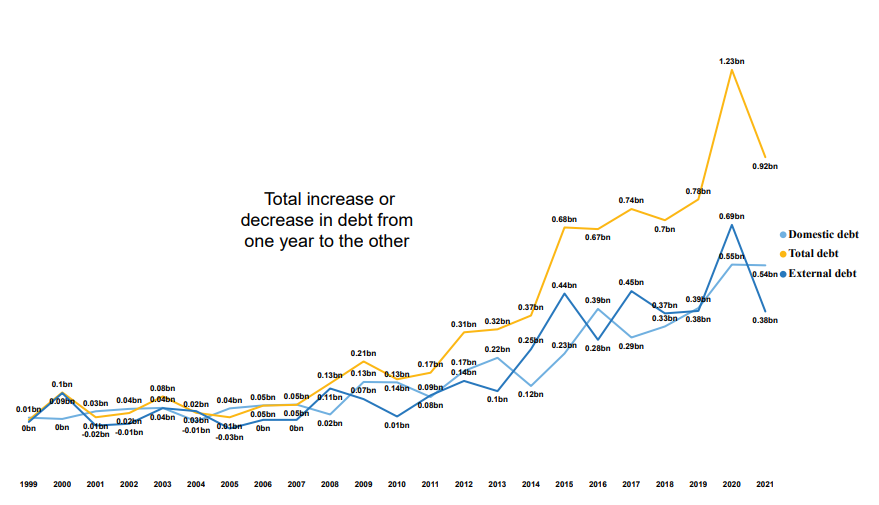

The page's visual inventory and layout, read from the dashboard file:
{"tool":"powerbi","page":{"name":"Page 1","canvas":[1280,720],"ordinal":0},"visuals":[{"type":"lineChart","fields":{"Y":["Sum(External_debt.AMOUNT_Increase_decrese_EXTERNAL)","Sum(Total_debt.AMOUNT_Increase_decrese_TOTAL)","Sum(Domestic_debt.AMOUNT_Increase_decrese_DOMESTIC)"],"Category":["Date.Year"]},"box":[0,0,1280.3,720.2],"z":0},{"type":"textbox","box":[321.1,258,299.1,137.2],"z":1}]}

Visuals, with their boxes in screenshot pixels (x1, y1, x2, y2), scaled from the page's 1280x720 canvas onto the 879x505 screenshot:
lineChart - Sum(External_debt.AMOUNT_Increase_decrese_EXTERNAL) x Sum(Total_debt.AMOUNT_Increase_decrese_TOTAL): left=0, top=0, right=878, bottom=504
textbox: left=221, top=181, right=426, bottom=277
